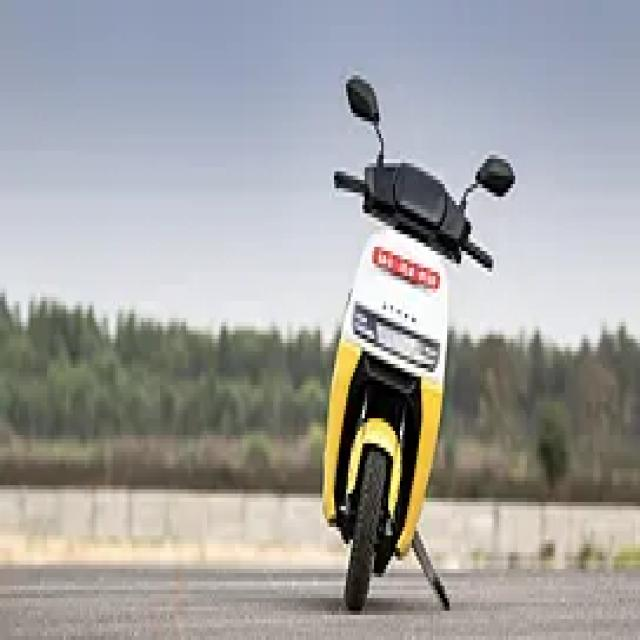objects: (306, 51, 503, 625)
